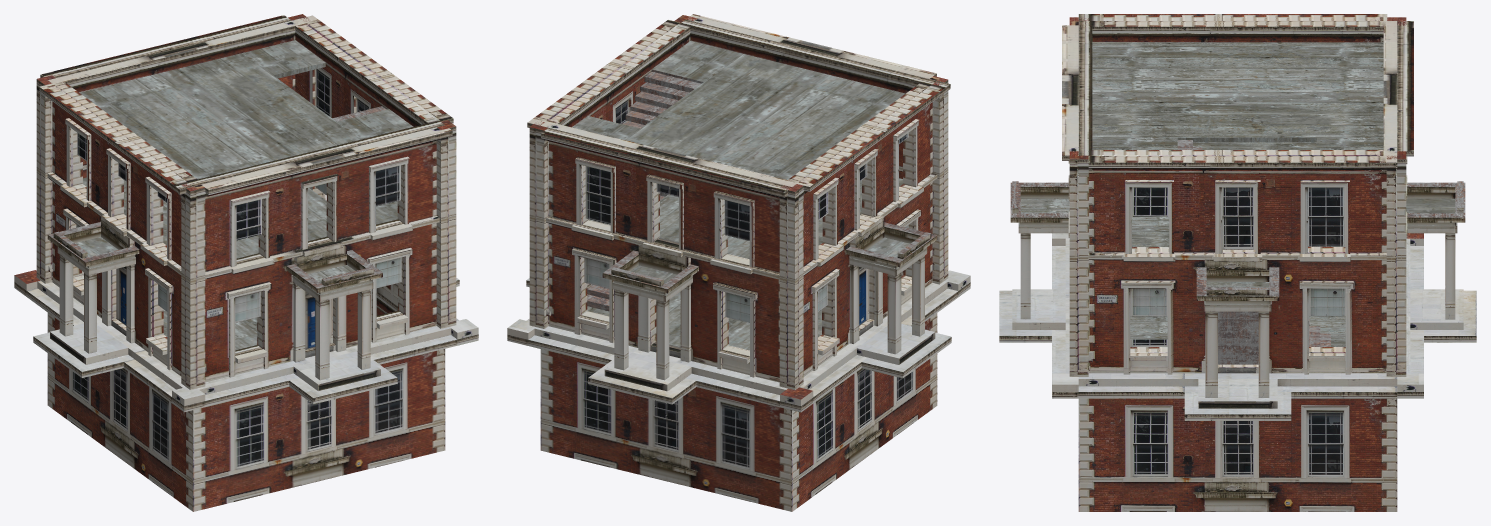
Rendered from BagBuilding13_200.fbx.
The picture shows the model from 3 angles, left to right: view 1: azimuth 30°, elevation 25°; view 2: azimuth 150°, elevation 25°; view 3: azimuth 270°, elevation 25°; orthographic projection. The views are drawn at different scales.
Parts seen in each view (by area): view 1: main200, roof200, marble200, stairsfloor200; view 2: main200, roof200, marble200, stairsfloor200; view 3: main200, roof200, marble200, stairsfloor200.
Boxes of the visible parts, box(x1,y1,x2,y2) form: main200: box(14, 14, 478, 511); roof200: box(75, 40, 413, 350); marble200: box(27, 278, 477, 400); stairsfloor200: box(48, 106, 386, 288); main200: box(507, 14, 970, 511); roof200: box(572, 41, 909, 350); marble200: box(508, 270, 970, 400); stairsfloor200: box(587, 69, 936, 311); main200: box(999, 14, 1476, 511); roof200: box(1018, 42, 1457, 346); marble200: box(999, 233, 1476, 414); stairsfloor200: box(1010, 140, 1465, 364).
Size of the model in its own units: 30.48 by 25.09 by 30.48.
